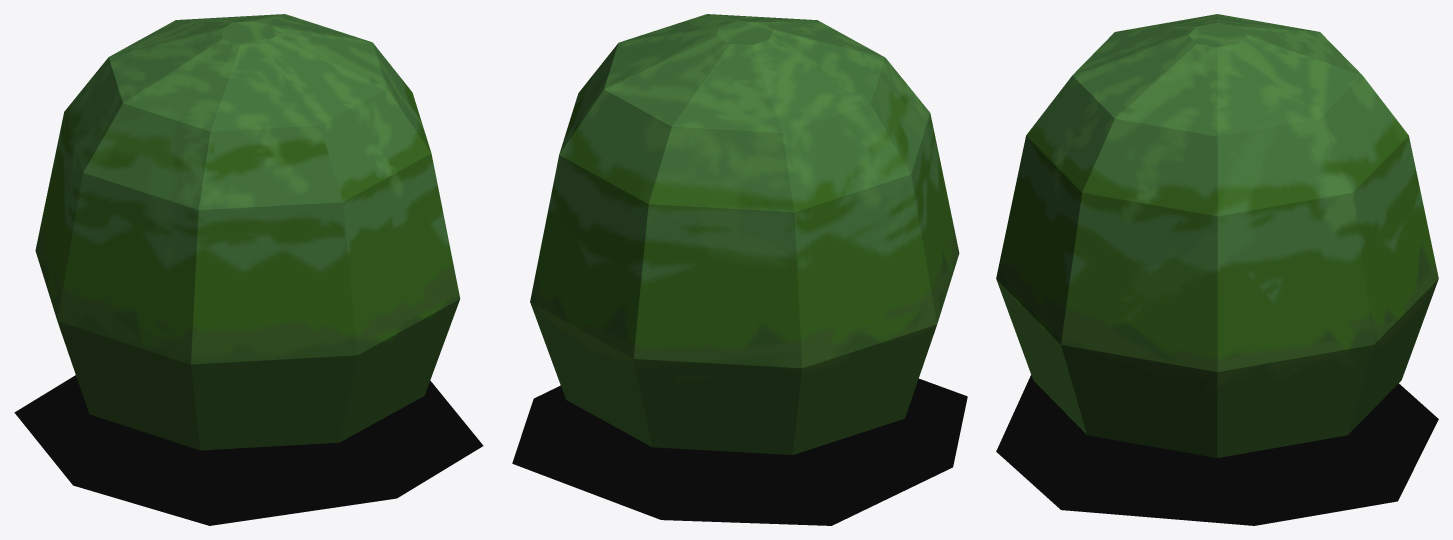
File: Tree_001.fbx
3 renders of one model, left to right at view 1: azimuth 30°, elevation 25°; view 2: azimuth 150°, elevation 25°; view 3: azimuth 270°, elevation 25°, orthographic.
Parts seen in each view (by area): view 1: Tree_001, Shadow; view 2: Tree_001, Shadow; view 3: Tree_001, Shadow.
Boxes of the visible parts, x1,y1,x2,y2 form: Tree_001: [35, 14, 460, 450]; Shadow: [14, 375, 483, 525]; Tree_001: [530, 14, 959, 454]; Shadow: [512, 378, 967, 525]; Tree_001: [996, 14, 1438, 457]; Shadow: [996, 375, 1438, 525].
Size of the model in its own units: 2 by 1.98 by 2.
